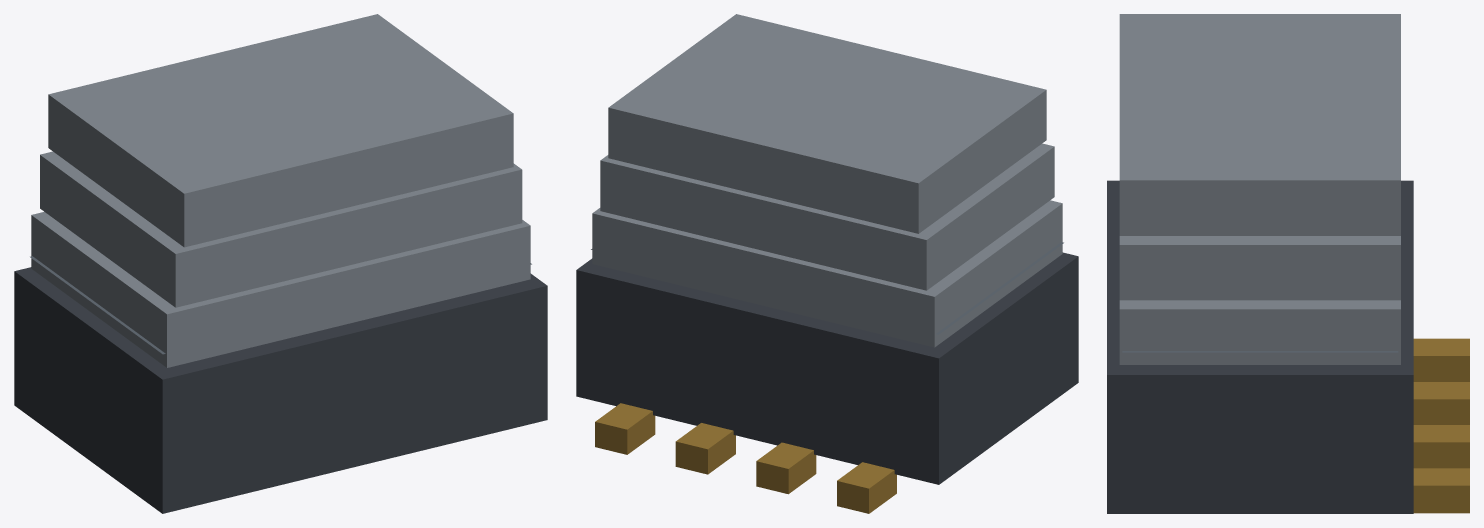
Rendered from droid-dura-plating-mk-3.lod.glb.
3 renders of one model, left to right at view 1: azimuth 30°, elevation 25°; view 2: azimuth 150°, elevation 25°; view 3: azimuth 270°, elevation 25°, orthographic. The views are drawn at different scales.
Visible parts, largest first — view 1: m; view 2: m; view 3: m.
Boxes of the visible parts, box(x1,y1,x2,y2) form: m: box(14, 14, 547, 513); m: box(576, 14, 1078, 513); m: box(1107, 14, 1469, 513).
Size of the model in its own units: 0.1 by 0.0822 by 0.0789.
